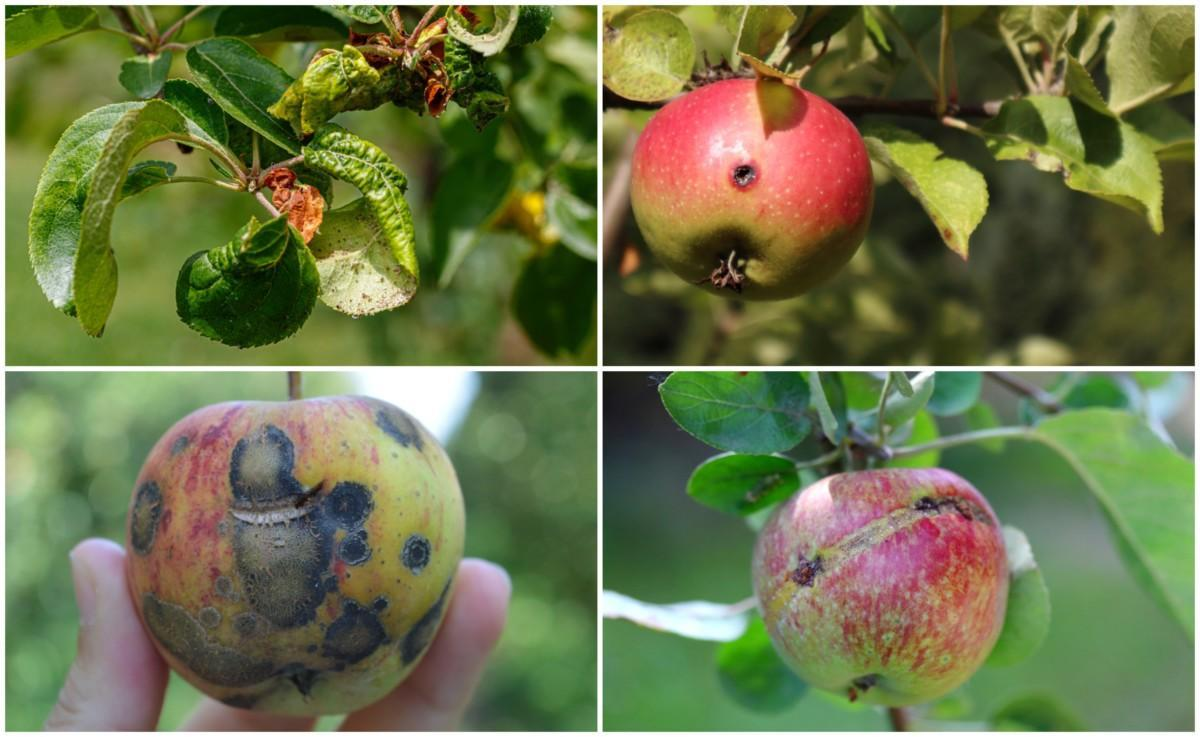apple: (122, 395, 467, 706), (749, 465, 1007, 709), (627, 73, 876, 296)
